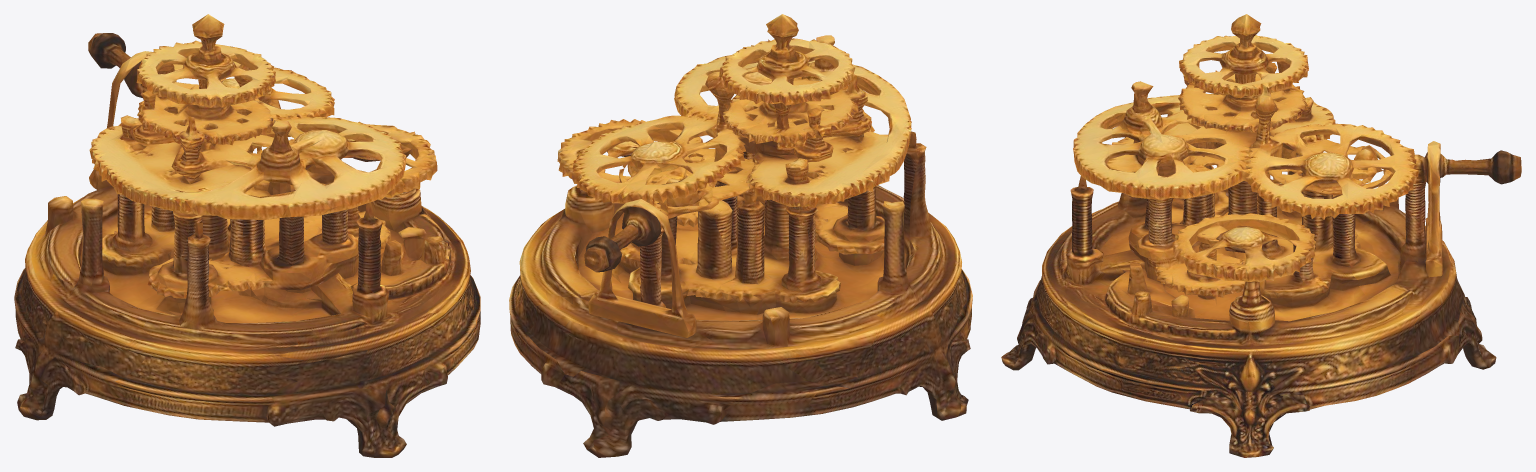
3 views of the same model, side by side, from view 1: azimuth 30°, elevation 25°; view 2: azimuth 150°, elevation 25°; view 3: azimuth 270°, elevation 25° (orthographic). The views are drawn at different scales.
Visible parts, largest first — view 1: body, rotation_part_01; view 2: body, rotation_part_01; view 3: body, rotation_part_01.
Boxes of the visible parts, bbox=[...] form: body: bbox=[14, 14, 480, 457]; rotation_part_01: bbox=[290, 121, 437, 199]; body: bbox=[509, 14, 972, 457]; rotation_part_01: bbox=[557, 119, 708, 183]; body: bbox=[1001, 14, 1521, 457]; rotation_part_01: bbox=[1172, 213, 1315, 282].
Size of the model in its own units: 0.4099 by 0.3128 by 0.4485.
1 material, 1 textured.
